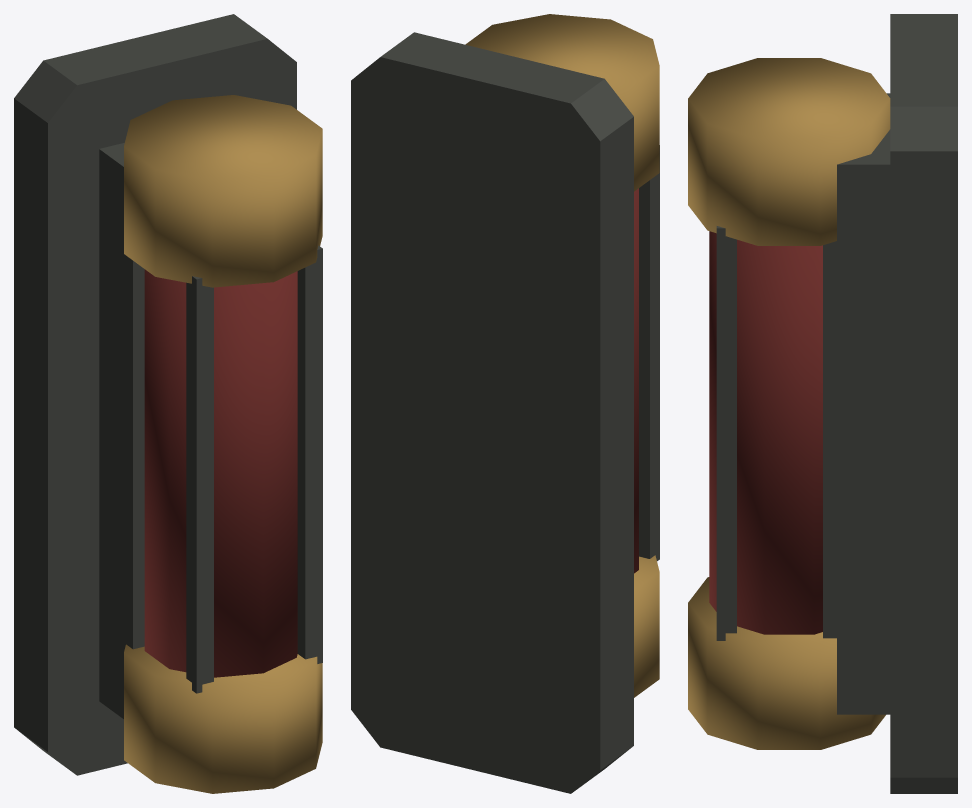
File: lamp_red_off.glb
The picture shows the model from 3 angles, left to right: view 1: azimuth 30°, elevation 25°; view 2: azimuth 150°, elevation 25°; view 3: azimuth 270°, elevation 25°; orthographic projection.
Visible parts, largest first — view 1: lamp_red_off; view 2: lamp_red_off; view 3: lamp_red_off.
Boxes of the visible parts, bbox=[...] form: lamp_red_off: bbox=[14, 14, 322, 793]; lamp_red_off: bbox=[351, 14, 659, 793]; lamp_red_off: bbox=[688, 14, 957, 793].
Size of the model in its own units: 0.34 by 0.9 by 0.32.
